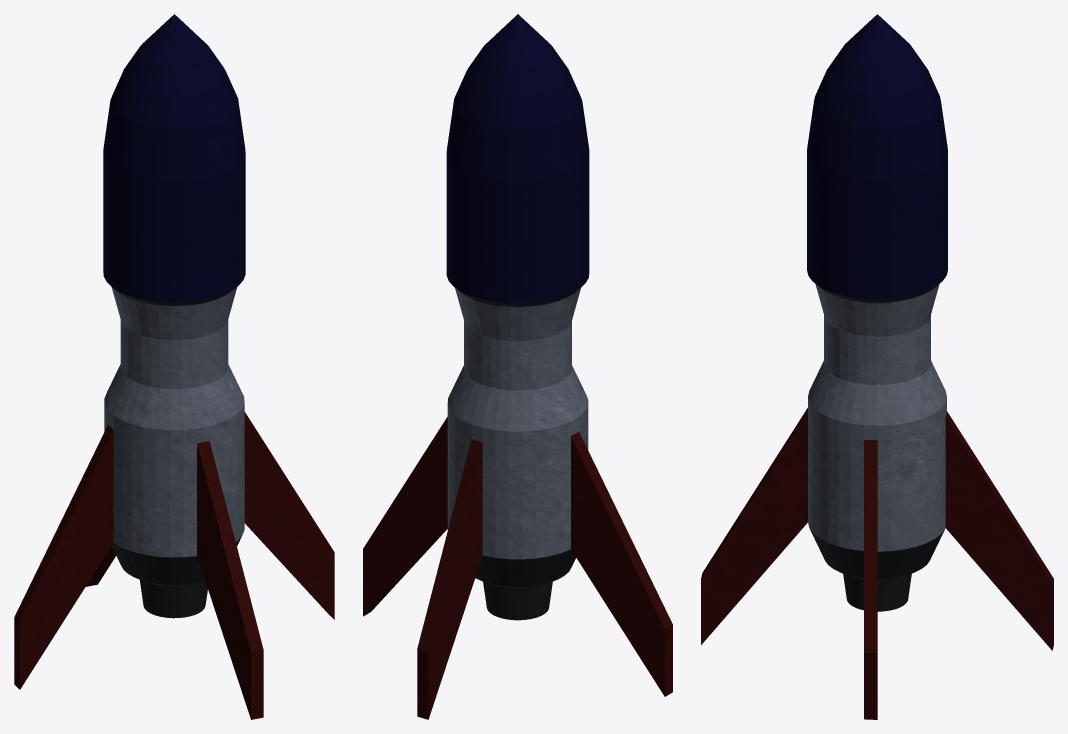
Rendered from missile.fbx.
3 renders of one model, left to right at view 1: azimuth 30°, elevation 25°; view 2: azimuth 150°, elevation 25°; view 3: azimuth 270°, elevation 25°, orthographic.
Parts seen in each view (by area): view 1: Cone; view 2: Cone; view 3: Cone.
Boxes of the visible parts, x1,y1,x2,y2 form: Cone: (14,14,334,719); Cone: (363,14,672,719); Cone: (701,14,1053,719).
Size of the model in its own units: 660 by 1303 by 660.
